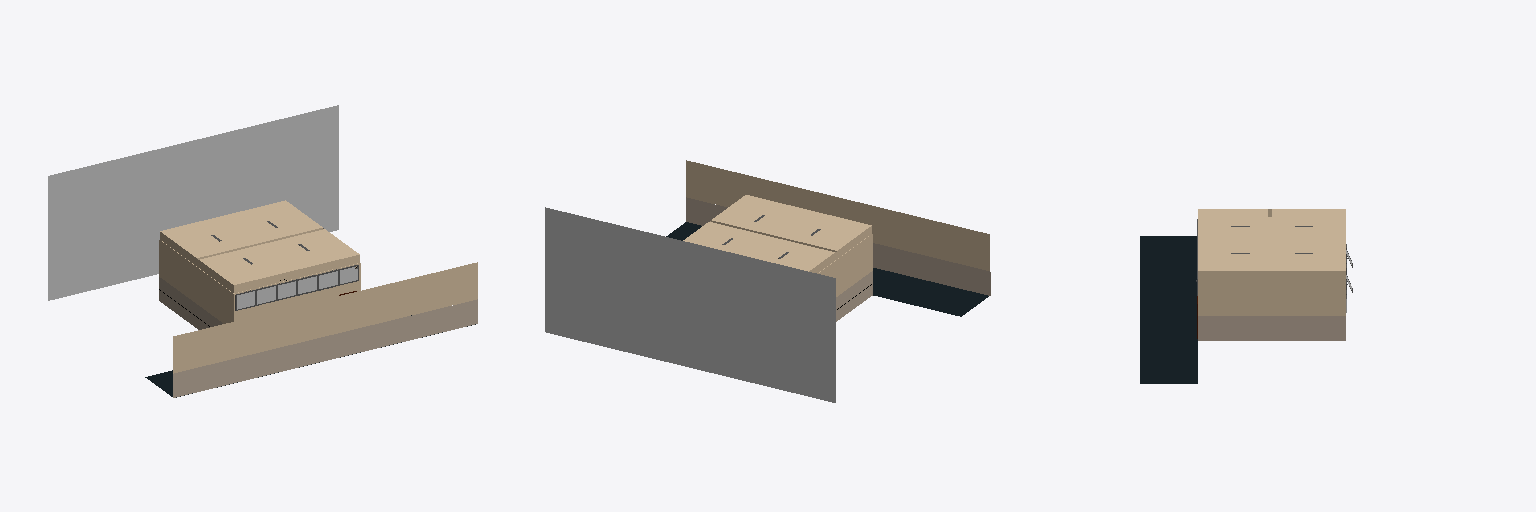
The model's file is laboratorio.obj.
The picture shows the model from 3 angles: view 1: azimuth 30°, elevation 25°; view 2: azimuth 150°, elevation 25°; view 3: azimuth 270°, elevation 25°; orthographic projection.
Visible parts, largest first — view 1: Plane, ParedesCima_Cube.002, ParedesBaixo_Cube.017, JanelasBrancas_Cube.016; view 2: Plane, ParedesCima_Cube.002, ParedesBaixo_Cube.017, Chão_Cube.001; view 3: ParedesCima_Cube.002, Chão_Cube.001, ParedesBaixo_Cube.017.
Part boxes in pixels (left/top/right/bottom): Plane: left=48, top=105, right=338, bottom=300; ParedesCima_Cube.002: left=159, top=200, right=477, bottom=373; ParedesBaixo_Cube.017: left=159, top=277, right=477, bottom=397; JanelasBrancas_Cube.016: left=237, top=267, right=357, bottom=309; Plane: left=545, top=207, right=835, bottom=402; ParedesCima_Cube.002: left=683, top=160, right=989, bottom=296; ParedesBaixo_Cube.017: left=686, top=197, right=990, bottom=321; Chão_Cube.001: left=666, top=222, right=988, bottom=316; ParedesCima_Cube.002: left=1198, top=209, right=1345, bottom=315; Chão_Cube.001: left=1140, top=236, right=1197, bottom=383; ParedesBaixo_Cube.017: left=1198, top=316, right=1345, bottom=340.
Bounding box in the file's own units: 18.29 × 7.15 × 14.48.